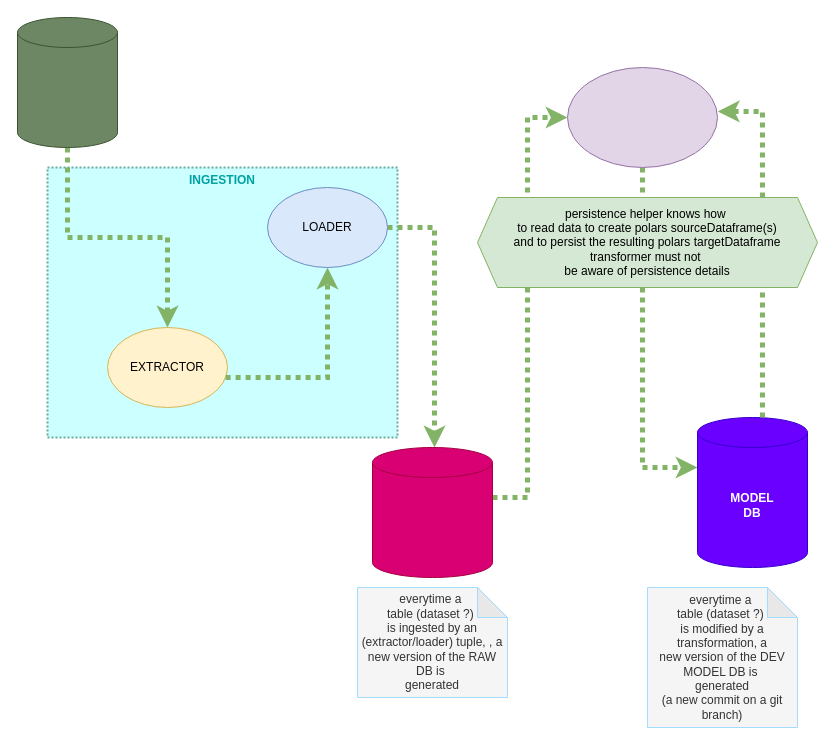
This 835x745 diagram has some shape labels left out. Each missing label, with the centre of its shape:
"EXTERNAL DATA SOURCE" belongs at (67,82).
"RAW_DATA DB" belongs at (432,512).
"TRANSFORMER" belongs at (642,117).
